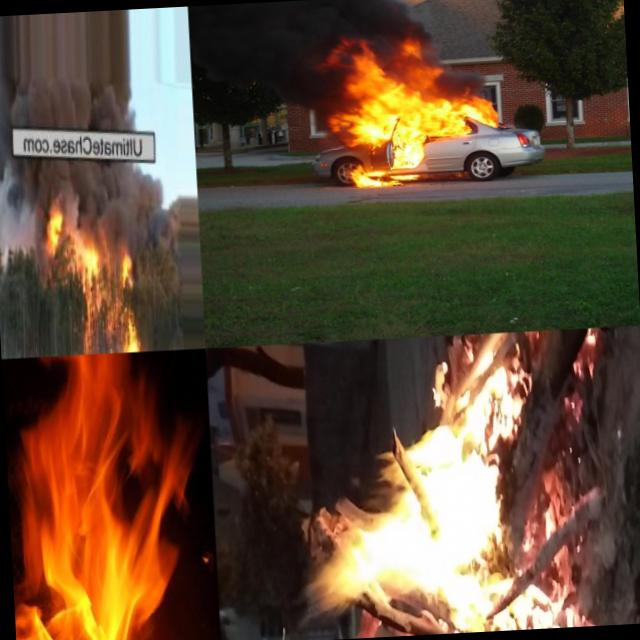fire: (2, 349, 211, 640), (377, 477, 591, 637), (333, 39, 495, 192), (42, 207, 140, 355)
smoke: (242, 0, 464, 60), (0, 161, 163, 222)
